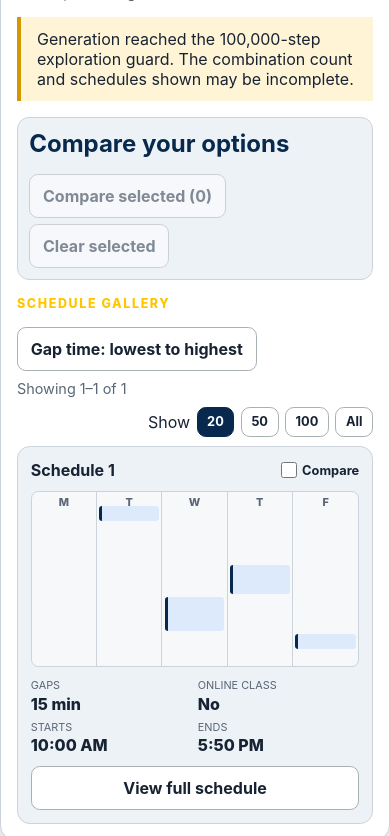
Test: ScheduleResults › exposes mobile day tabs and exploration-limit context
(page scrolled)
Click the button "View full schedule". click: click(195, 788)
box: [31,766,359,810]
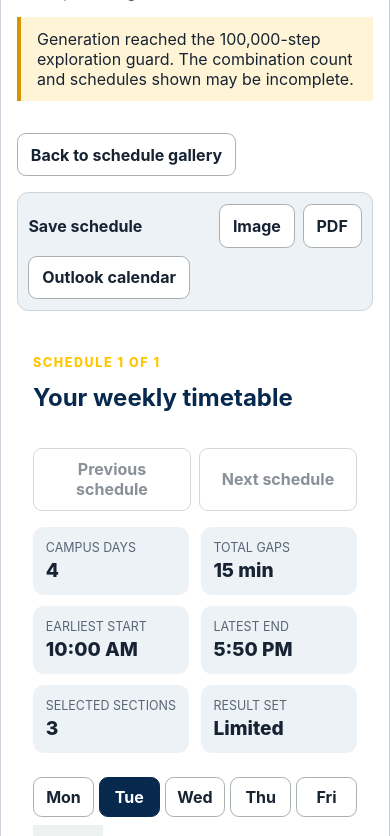
Expected: the text "100,000-step exploration guard" is shown, [37,29,354,89]
Expected: the element named "Schedule day" is shown, [33,777,357,817]
